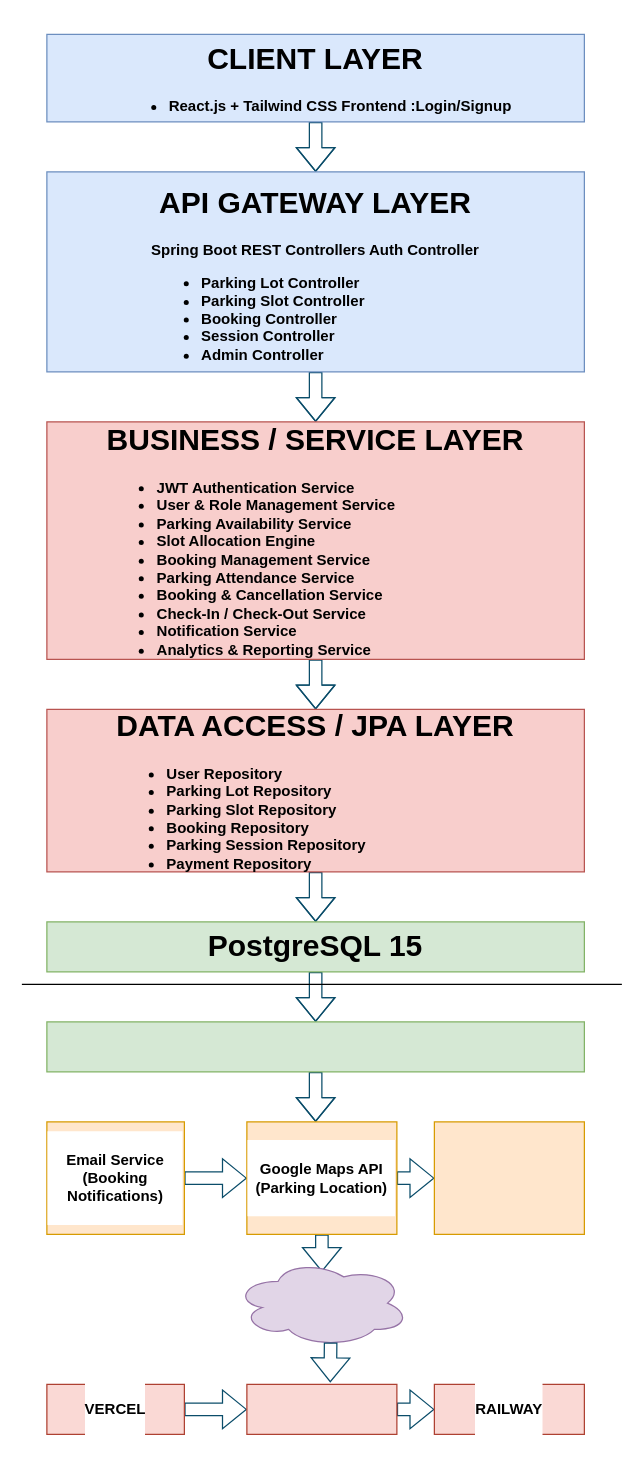
Image size: 644x1460. Some labels were removed from this diagram. Each missing label, with the centre of its shape:
"Cloud" belongs at (x=321, y=1302).
"EXTERNAL INTEGRATIONS" belongs at (x=315, y=1046).
"Payment Sandbox(E-Enhancement)" belongs at (x=508, y=1177).
"RENDER" belongs at (x=321, y=1408).
